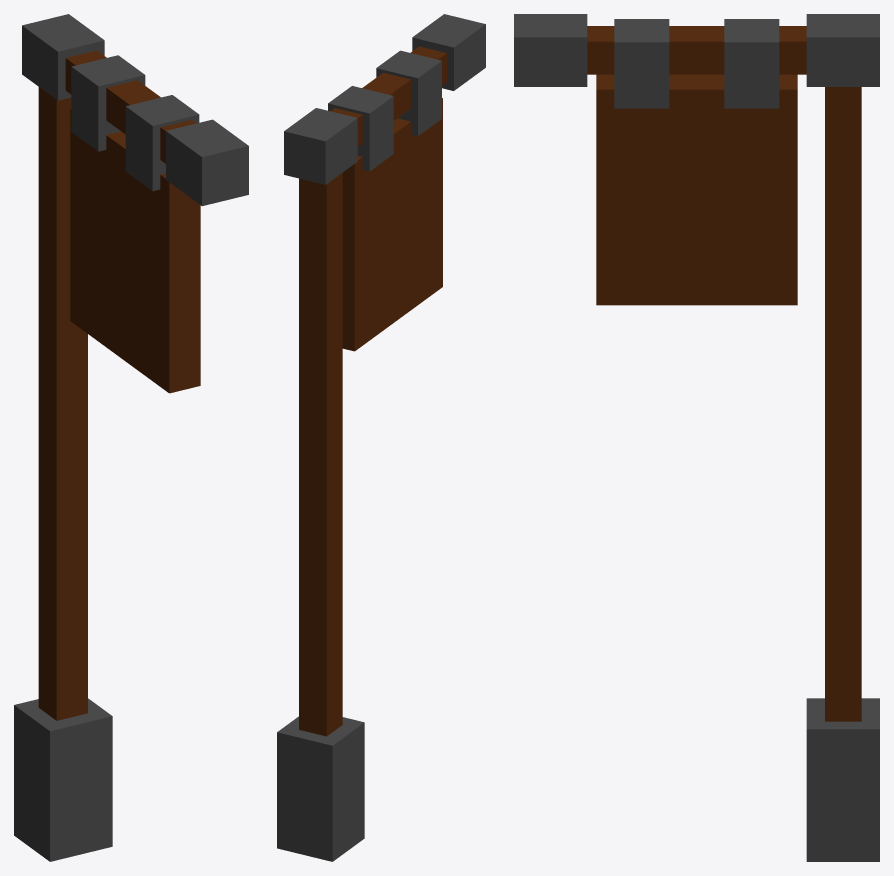
The model's file is sign.obj.
3 renders of one model, left to right at view 1: azimuth 30°, elevation 25°; view 2: azimuth 150°, elevation 25°; view 3: azimuth 270°, elevation 25°, orthographic. The views are drawn at different scales.
Parts seen in each view (by area): view 1: Cube, Cube.001, Cube.002, Cube.003, Cube.005, Cube.004, Cube.006, Cube.007; view 2: Cube, Cube.001, Cube.002, Cube.005, Cube.003, Cube.004, Cube.006, Cube.007; view 3: Cube.001, Cube, Cube.002, Cube.007, Cube.003, Cube.005, Cube.004, Cube.006.
Boxes of the visible parts, <box> form: Cube: <box>38,87,87,720</box>; Cube.001: <box>70,108,200,393</box>; Cube.002: <box>14,698,112,861</box>; Cube.003: <box>166,119,248,206</box>; Cube.005: <box>22,14,104,100</box>; Cube.004: <box>71,55,145,151</box>; Cube.006: <box>125,95,199,191</box>; Cube.007: <box>65,50,196,163</box>; Cube: <box>299,173,342,736</box>; Cube.001: <box>342,98,442,351</box>; Cube.002: <box>277,716,364,861</box>; Cube.005: <box>284,108,357,184</box>; Cube.003: <box>412,14,485,90</box>; Cube.004: <box>328,86,393,171</box>; Cube.006: <box>376,50,441,136</box>; Cube.007: <box>331,46,446,146</box>; Cube.001: <box>596,74,797,305</box>; Cube: <box>825,87,861,721</box>; Cube.002: <box>806,698,879,861</box>; Cube.007: <box>587,26,806,74</box>; Cube.003: <box>514,14,587,86</box>; Cube.005: <box>806,14,879,86</box>; Cube.004: <box>724,19,779,108</box>; Cube.006: <box>614,19,669,108</box>.
Bounding box in the file's own units: 1 × 12.38 × 5.
